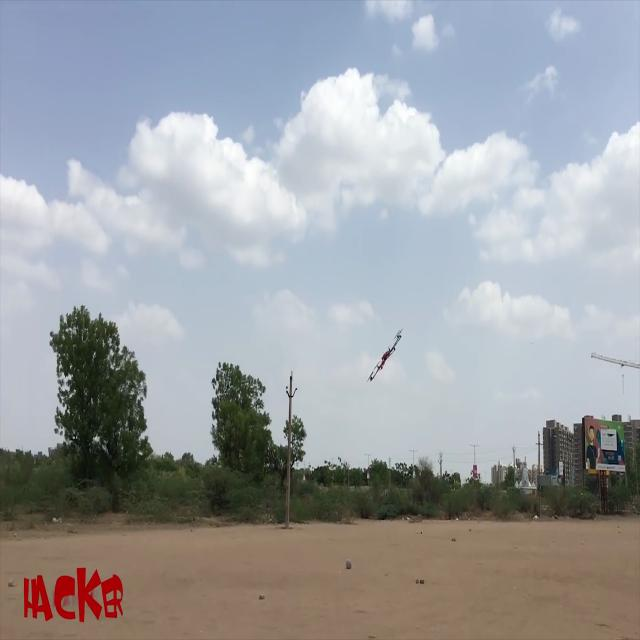drone: (357, 316, 408, 388)
